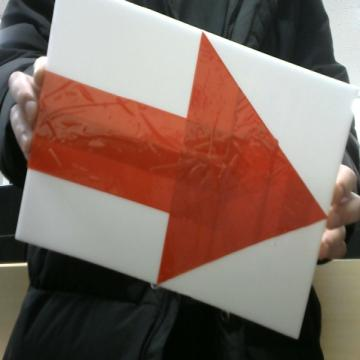red_right: (33, 34, 325, 283)
